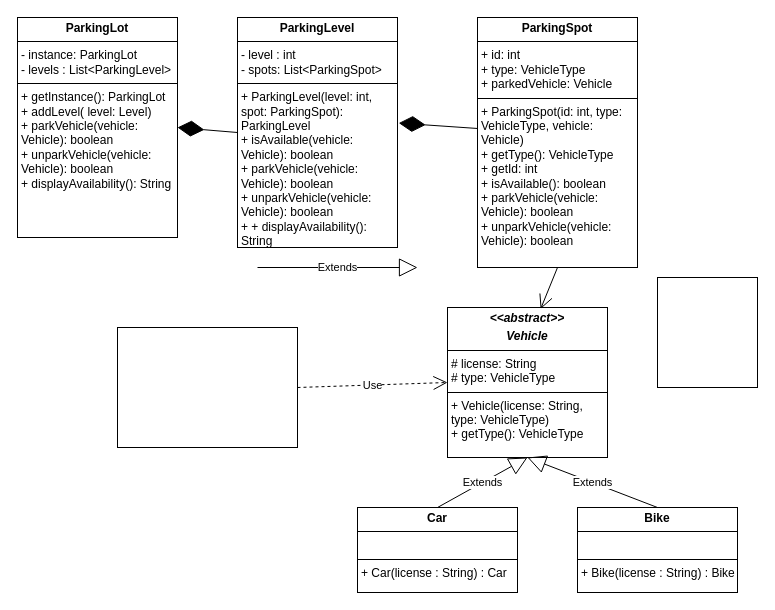
Some shapes in this 775 by 610 pixel diagram are drawn without their labels. The shapes that lost their labels are listed below. From the top down, each one's centre as x and y in pixels, then its label:
the point at 707,332: <<enumeration>> VehicleType Car Bike Truck
the point at 207,387: VehicleFactory + getVehicle(license: String, type; VehicleType): Vehicle
